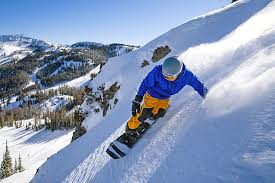snowboard: (103, 118, 155, 160)
